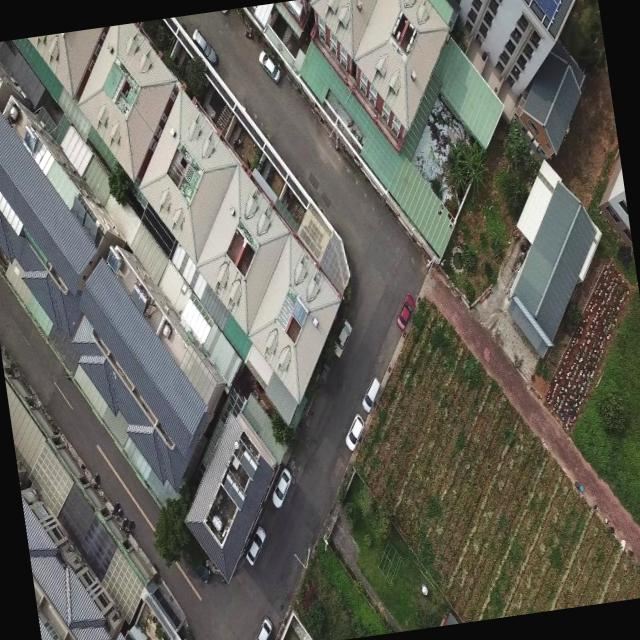car: (191, 26, 220, 70), (242, 524, 270, 568), (268, 466, 295, 509), (393, 292, 420, 334), (329, 318, 356, 360), (342, 413, 368, 453), (358, 375, 384, 414), (257, 48, 282, 85), (249, 614, 277, 640)
